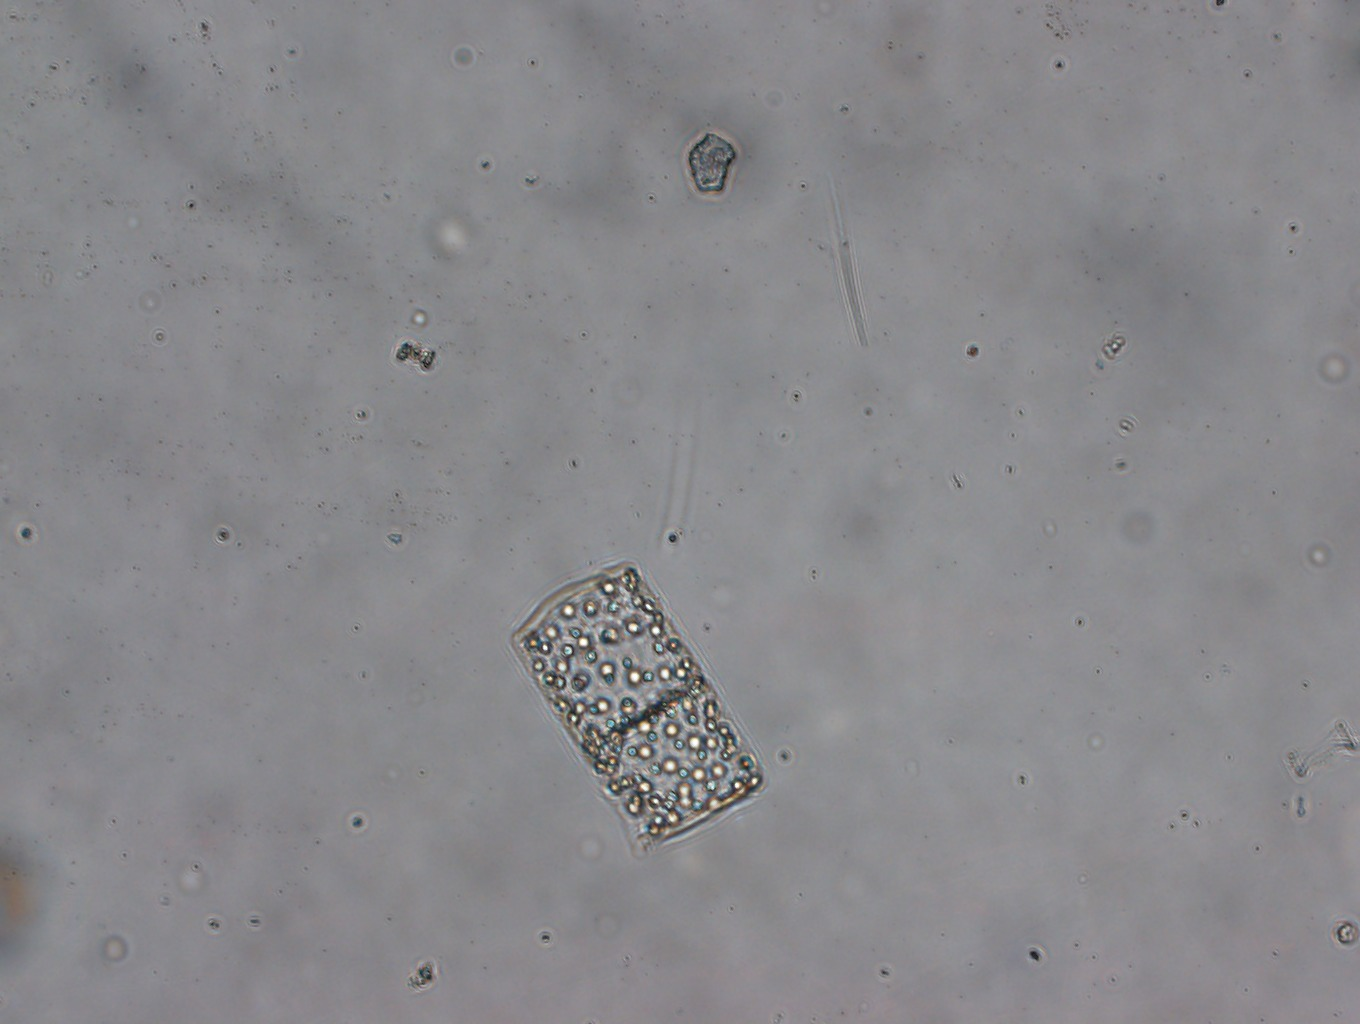guinardia flaccida: (509, 558, 765, 847)
